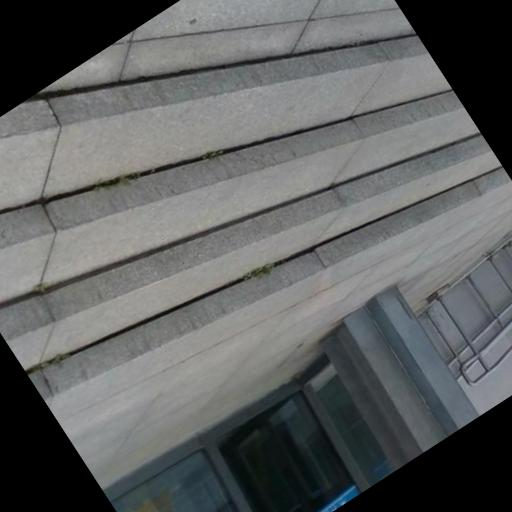stairs: (0, 35, 511, 417)
